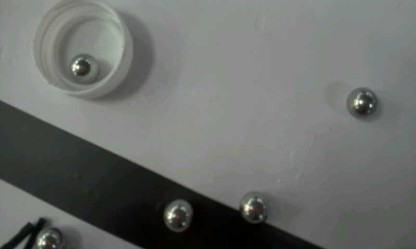ironball: (345, 86, 378, 119), (162, 198, 193, 232), (238, 191, 268, 224), (69, 54, 97, 83)
